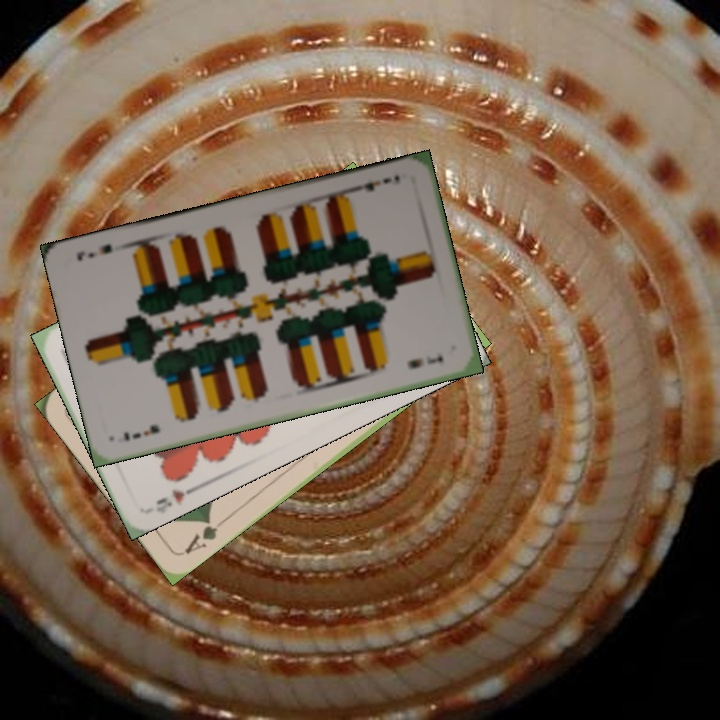E7: (350, 170, 403, 195), (119, 421, 162, 444)
GA: (180, 513, 228, 557)
H9: (151, 482, 200, 516)
